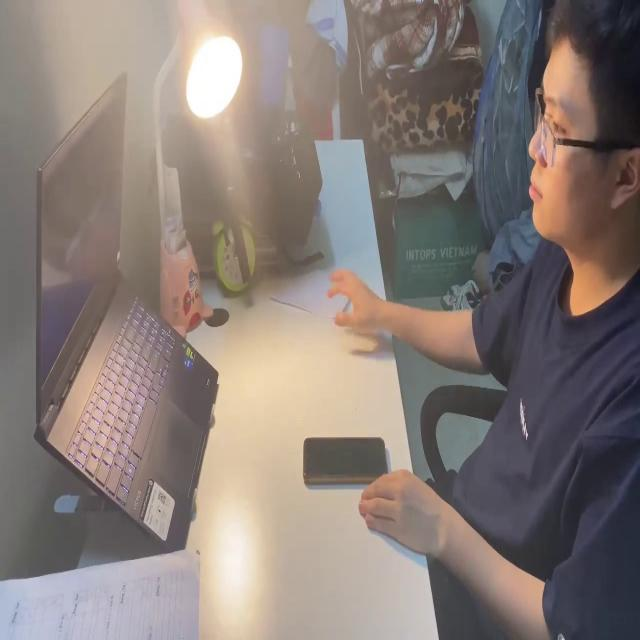book: (1, 546, 204, 640), (264, 262, 352, 326)
laptop: (31, 69, 220, 556)
phone: (301, 434, 389, 489)
student: (323, 0, 640, 640)
